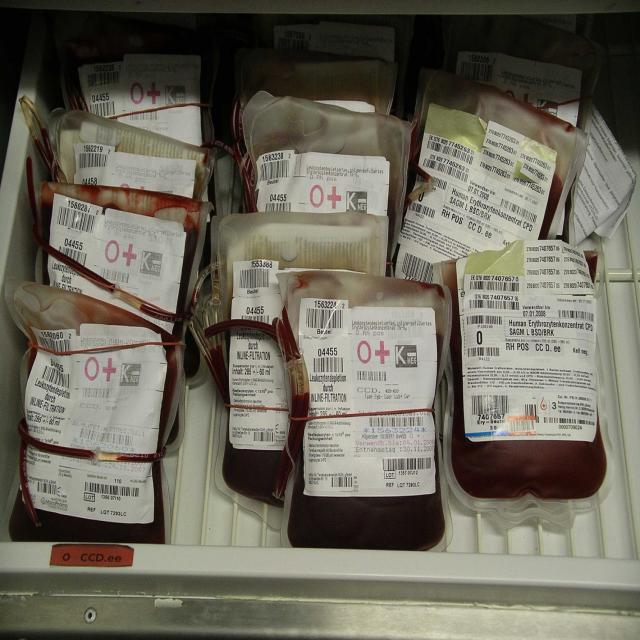B3: (272, 266, 458, 550), (450, 242, 628, 535), (7, 290, 185, 550)
